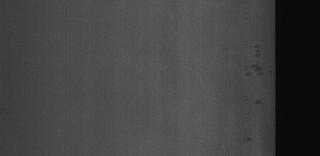oil spot: (243, 60, 264, 80), (253, 45, 265, 58), (253, 97, 265, 107)
